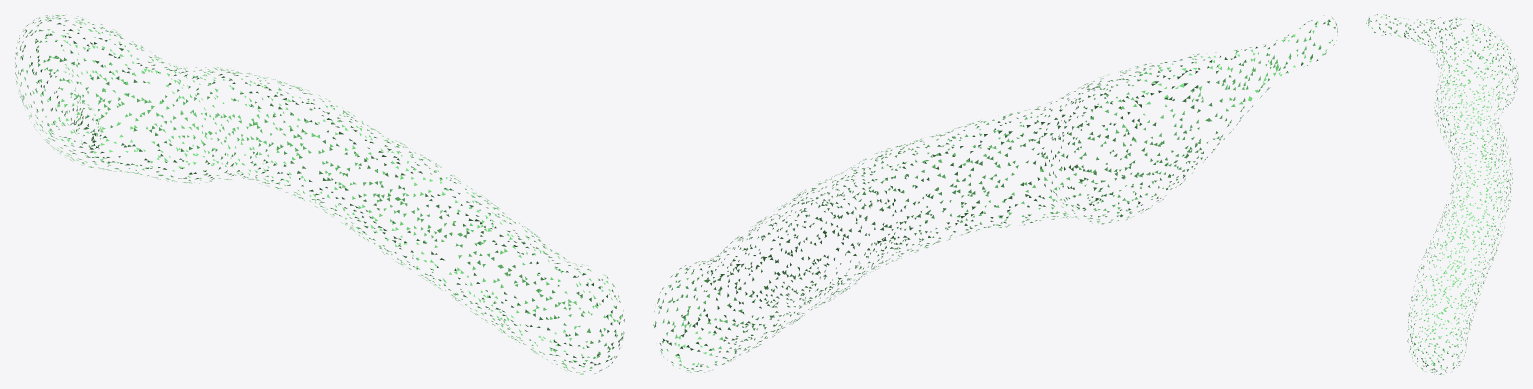
Rendered from morph_018.glb.
3 renders of one model, left to right at view 1: azimuth 30°, elevation 25°; view 2: azimuth 150°, elevation 25°; view 3: azimuth 270°, elevation 25°, orthographic. The views are drawn at different scales.
Bounding box in the file's own units: 113 × 81.68 × 49.6.
